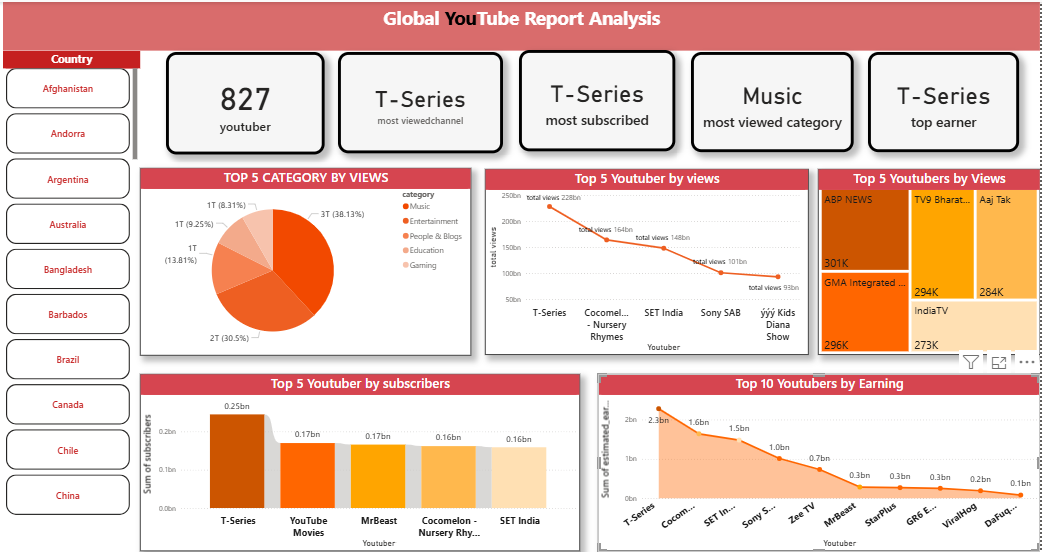

What the dashboard file says about the page in this screenshot:
{"tool":"powerbi","page":{"name":"Page 1","canvas":[1800,950],"ordinal":0},"visuals":[{"type":"textbox","box":[8.6,0,1791.4,84.2],"z":0},{"type":"advancedSlicerVisual","fields":{"Values":["Global YouTube Statistics.Country"]},"box":[8.6,84.6,236.6,815.3],"z":1000},{"type":"card","fields":{"Values":["Global YouTube Statistics.top earner"]},"box":[1502.2,86.3,261.2,172.7],"z":2000},{"type":"card","fields":{"Values":["Global YouTube Statistics.most viewed category"]},"box":[1197,85.5,281.2,172.9],"z":3000},{"type":"card","fields":{"Values":["Global YouTube Statistics.most subscribed"]},"box":[900.6,83.6,269.8,174.8],"z":4000},{"type":"card","fields":{"Values":["Global YouTube Statistics.most viewed youtuber"]},"box":[587.1,85.5,285,174.8],"z":5000},{"type":"card","fields":{"Values":["Global YouTube Statistics.youtuber_count_total"]},"box":[290.7,85.5,273.6,176.7],"z":6000},{"type":"pieChart","title":"TOP 5 CATEGORY BY VIEWS","fields":{"Y":["Global YouTube Statistics.video views"],"Category":["Global YouTube Statistics.category"]},"box":[246,287.1,571.9,323.7],"z":7000},{"type":"lineChart","title":"Top 5 Youtuber by views","fields":{"Y":["Global YouTube Statistics.total  views"],"Category":["Global YouTube Statistics.Youtuber"]},"box":[841.7,288.8,558.6,321.1],"z":8000},{"type":"treemap","title":"Top 5 Youtubers by Views","fields":{"Group":["Global YouTube Statistics.Youtuber"],"Values":["Global YouTube Statistics.uploads"]},"box":[1415.5,288.8,383.8,321.1],"z":9000},{"type":"columnChart","title":"Top 5 Youtuber by subscribers ","fields":{"Category":["Global YouTube Statistics.Youtuber"],"Y":["Global YouTube Statistics.subscribers"]},"box":[246,643.2,759.7,306.5],"z":10000},{"type":"areaChart","title":"Top 10 Youtubers by Earning","fields":{"Category":["Global YouTube Statistics.Youtuber"],"Y":["Global YouTube Statistics.estimated_earning"]},"box":[1036,643.2,764,306.5],"z":11000}]}

Visuals, with their boxes in screenshot pixels (x1, y1, x2, y2), scaled from the page's 1800x950 canvas onto the 1042x552 screenshot:
textbox: locate(5, 0, 1041, 49)
advancedSlicerVisual - Global YouTube Statistics.Country: locate(5, 49, 142, 523)
card - Global YouTube Statistics.top earner: locate(870, 50, 1021, 150)
card - Global YouTube Statistics.most viewed category: locate(693, 50, 856, 150)
card - Global YouTube Statistics.most subscribed: locate(521, 49, 678, 150)
card - Global YouTube Statistics.most viewed youtuber: locate(340, 50, 505, 151)
card - Global YouTube Statistics.youtuber_count_total: locate(168, 50, 327, 152)
"TOP 5 CATEGORY BY VIEWS" pieChart: locate(142, 167, 473, 355)
"Top 5 Youtuber by views" lineChart: locate(487, 168, 811, 354)
"Top 5 Youtubers by Views" treemap: locate(819, 168, 1041, 354)
"Top 5 Youtuber by subscribers " columnChart: locate(142, 374, 582, 551)
"Top 10 Youtubers by Earning" areaChart: locate(600, 374, 1041, 551)
